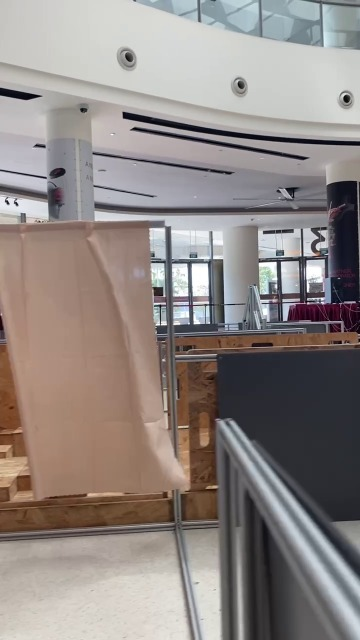curtain: (0, 160, 180, 525)
